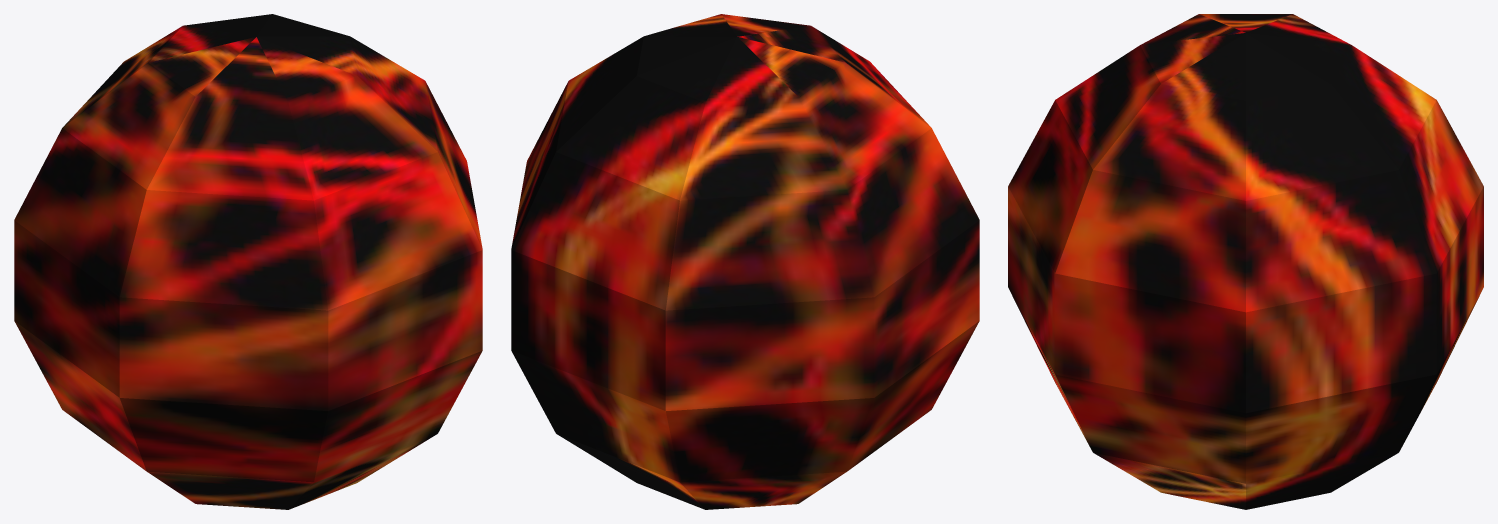
The model's file is EnergyRed.fbx.
3 views of the same model, side by side, from view 1: azimuth 30°, elevation 25°; view 2: azimuth 150°, elevation 25°; view 3: azimuth 270°, elevation 25° (orthographic).
Visible parts, largest first — view 1: Energy; view 2: Energy; view 3: Energy.
Part boxes in pixels (x1,y1,x2,y2): Energy: (14, 14, 482, 509); Energy: (511, 14, 979, 509); Energy: (1008, 14, 1483, 509).
Size of the model in its own units: 1.85 by 2 by 1.9.
